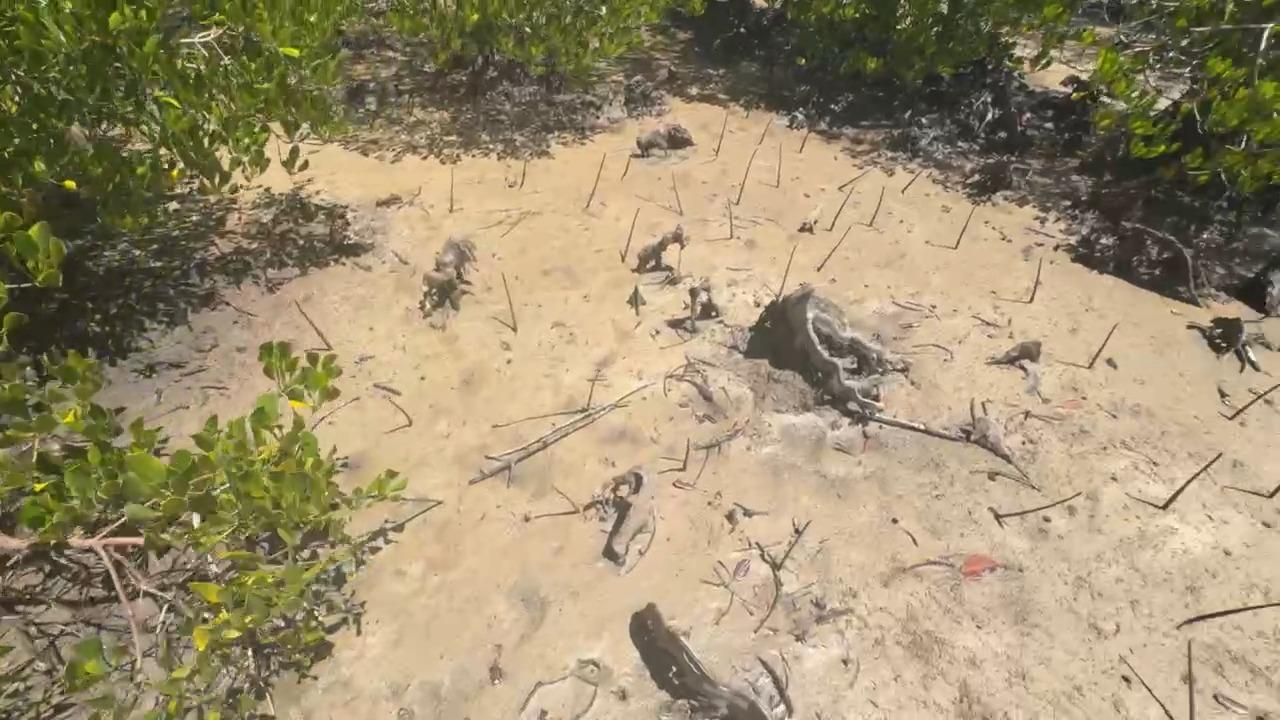Tree: (1163, 452, 1224, 509), (993, 491, 1082, 518), (777, 519, 813, 573), (296, 300, 333, 350), (1229, 384, 1280, 418), (817, 227, 852, 271), (1088, 323, 1117, 369), (585, 152, 607, 208), (735, 149, 757, 205), (829, 187, 856, 231), (954, 204, 977, 251), (622, 207, 641, 260), (501, 273, 517, 333), (778, 245, 796, 298), (387, 396, 413, 427), (553, 484, 580, 513), (839, 166, 873, 189), (1187, 638, 1196, 720), (900, 166, 925, 193), (869, 187, 885, 226), (671, 170, 684, 216), (1029, 258, 1042, 304), (799, 124, 817, 153), (586, 371, 599, 411), (716, 113, 728, 156), (758, 118, 773, 145), (620, 154, 632, 181), (682, 438, 691, 472), (776, 144, 782, 188), (727, 197, 733, 239), (519, 158, 526, 189), (449, 168, 453, 212), (1268, 484, 1280, 497)
